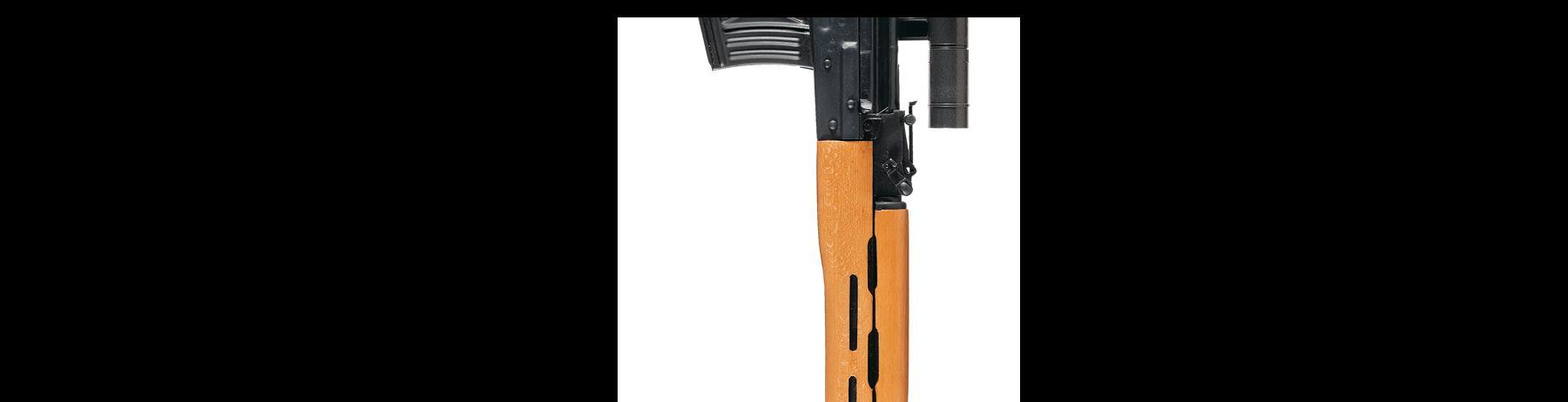larga: (694, 17, 972, 402)
